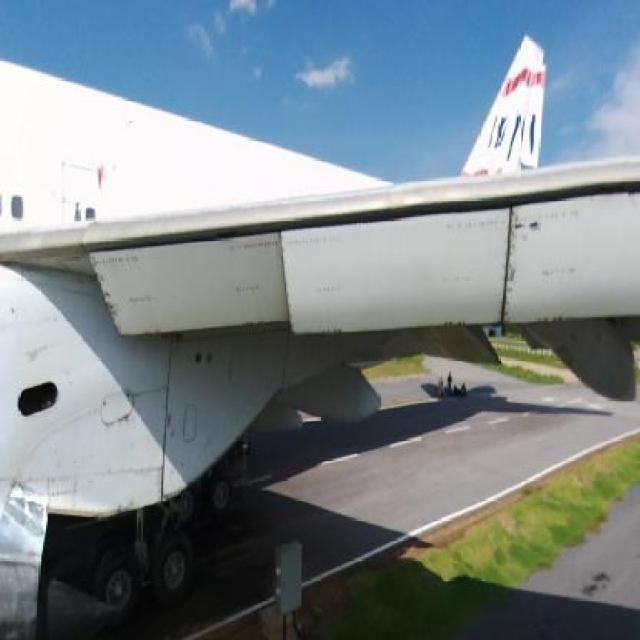Scartch: (96, 262, 124, 329), (508, 210, 548, 248)
